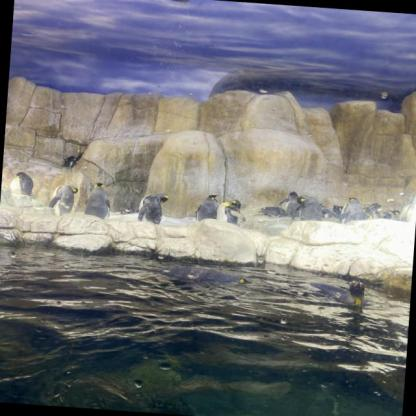penguin: (152, 264, 254, 290), (289, 276, 367, 308), (136, 190, 169, 224), (83, 182, 113, 218), (48, 183, 77, 217), (194, 194, 222, 224), (216, 198, 246, 224), (295, 196, 323, 222), (278, 190, 302, 217), (9, 171, 33, 197), (342, 196, 364, 223), (406, 182, 416, 224), (363, 201, 383, 220), (314, 202, 334, 220), (258, 206, 286, 217), (389, 209, 405, 222), (333, 204, 344, 217)
